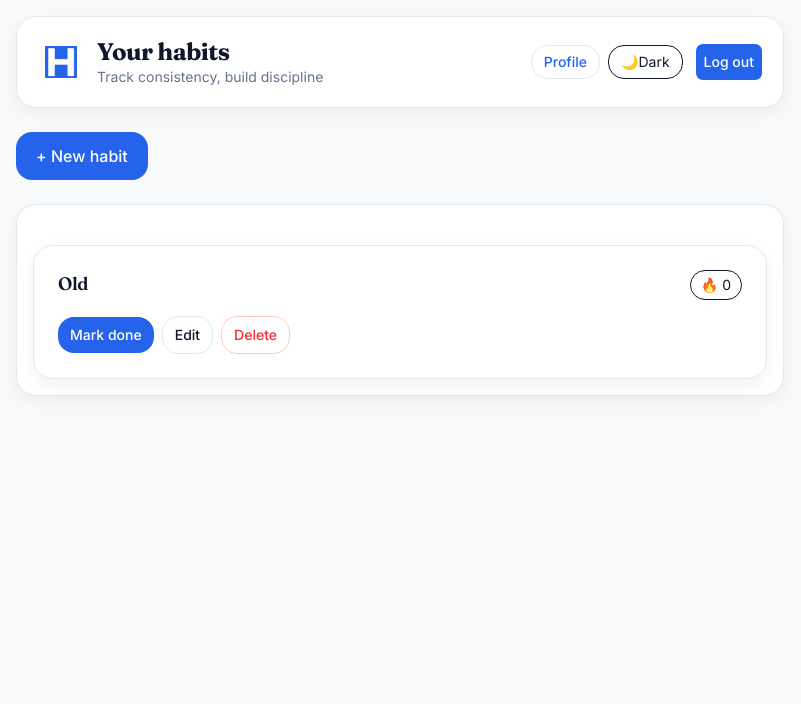
Test: habit form › edits an existing habit and preserves immutable fields
Click the button with test id "habit-edit-old".
click(187, 335)  # box [162,316,213,354]
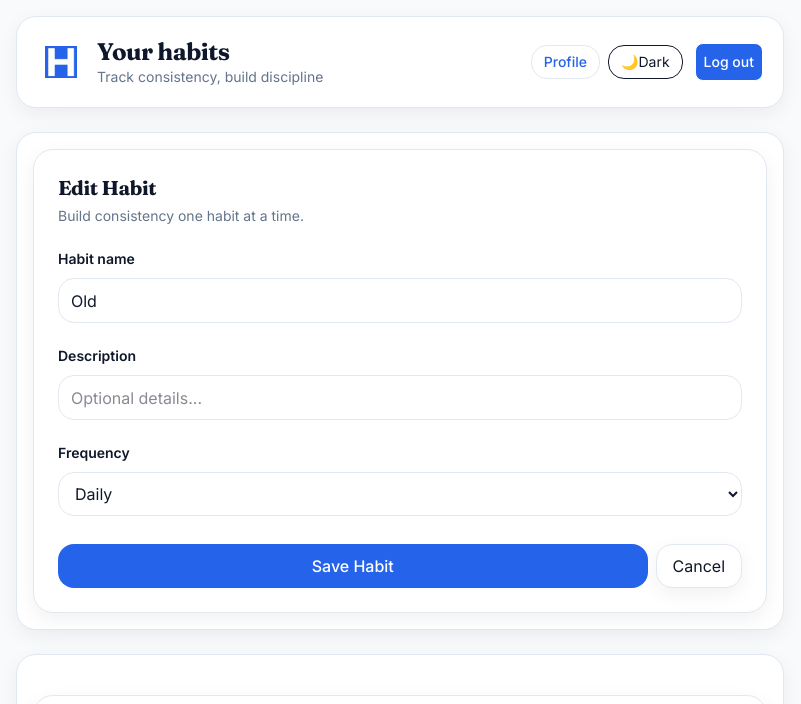
Replace the text in the field with test id "habit-name-input" with "New" at (400, 301), box [58,278,742,323]
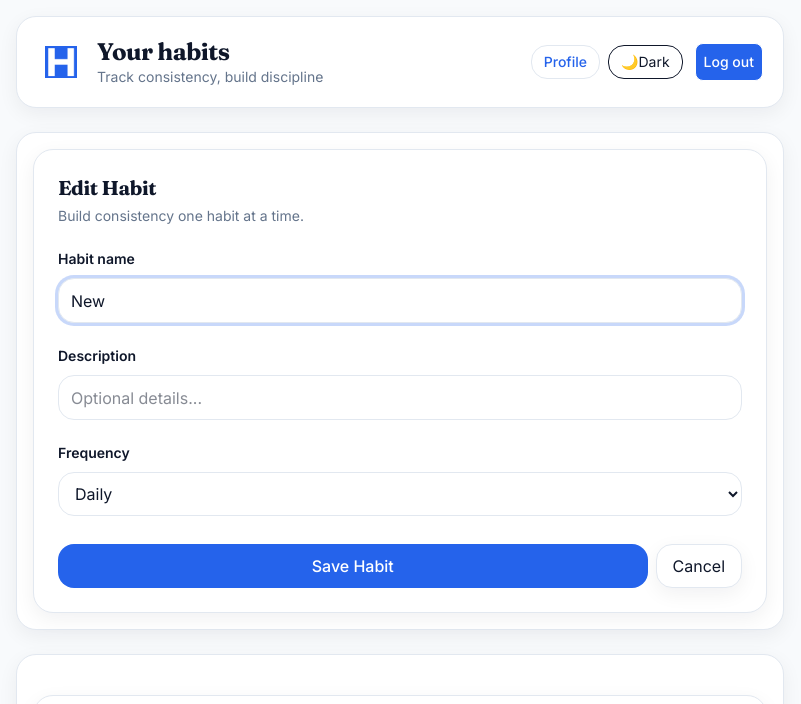
Click the button with test id "habit-save-button".
click(353, 566)  # box [58,544,648,588]
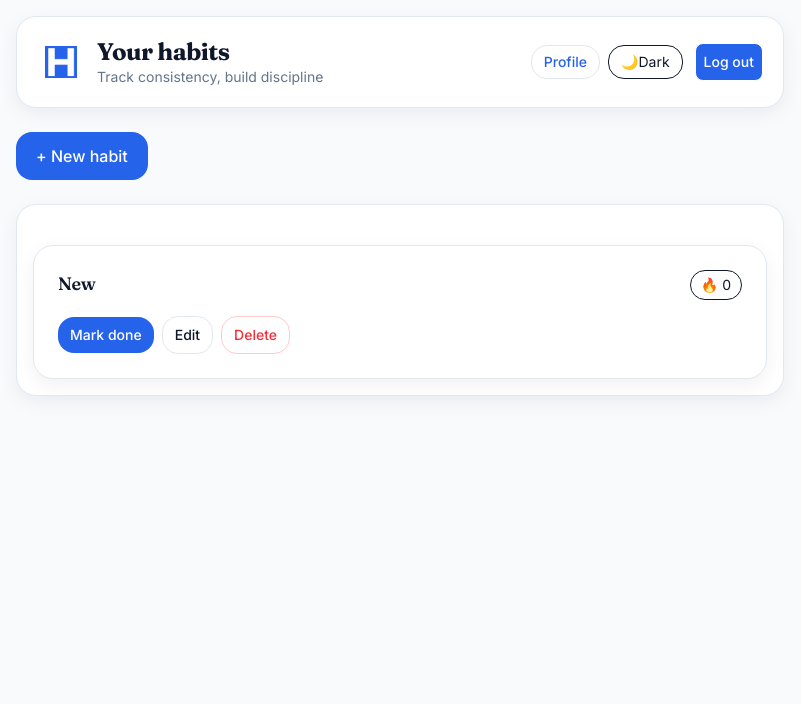
Now the element showing "New" is shown, box [58,270,96,298]
